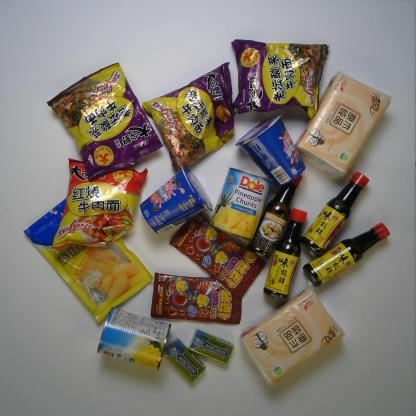Candy: (169, 207, 267, 302), (150, 270, 244, 324)
Canned Food: (97, 303, 171, 371), (210, 164, 272, 240)
Dessert: (138, 162, 213, 240), (235, 116, 306, 189)
Dried Fruit: (28, 192, 154, 324)
Gum: (163, 340, 206, 384), (187, 328, 234, 366)
Instant Noodles: (44, 61, 162, 183), (143, 63, 234, 170), (54, 152, 148, 248), (228, 37, 332, 118)
Seasoner: (303, 224, 390, 291), (302, 171, 371, 254), (251, 172, 302, 258), (263, 208, 308, 304)
Tissue: (294, 71, 392, 179), (245, 289, 346, 387)
